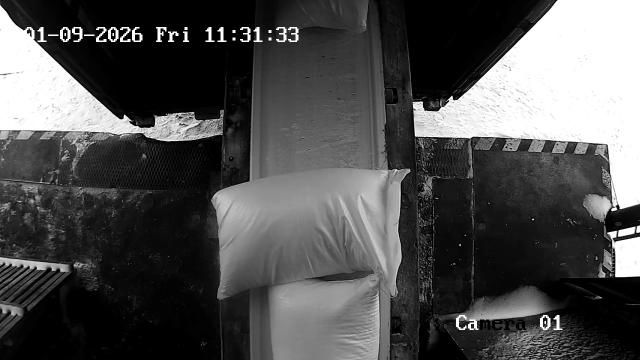bag: (212, 168, 410, 298), (270, 272, 379, 360), (278, 0, 369, 36)
